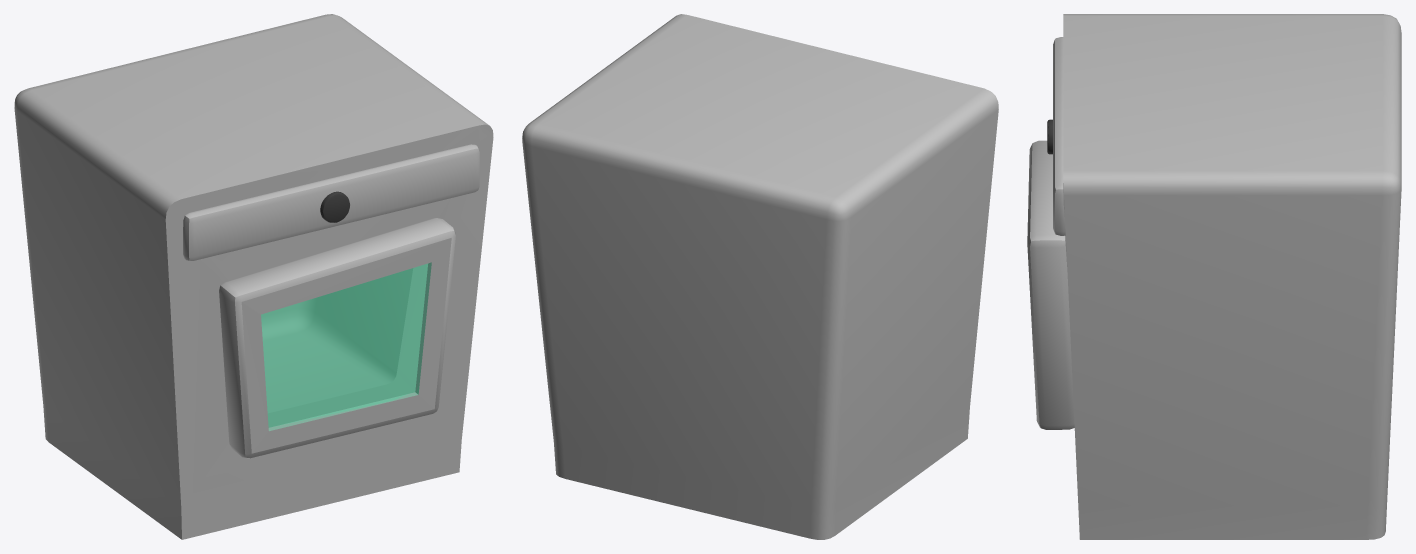
File: Washing Machine.fbx
The picture shows the model from 3 angles, left to right: view 1: azimuth 30°, elevation 25°; view 2: azimuth 150°, elevation 25°; view 3: azimuth 270°, elevation 25°; orthographic projection. The views are drawn at different scales.
Visible parts, largest first — view 1: Washing machine, Washing Machine door; view 2: Washing machine; view 3: Washing machine, Washing Machine door.
Boxes of the visible parts, box(x1,y1,x2,y2) form: Washing machine: box(14, 14, 493, 539); Washing Machine door: box(219, 218, 455, 458); Washing machine: box(522, 14, 998, 539); Washing machine: box(1047, 14, 1401, 539); Washing Machine door: box(1027, 140, 1074, 429).
Bounding box in the file's own units: 53.74 × 54.77 × 49.53.
